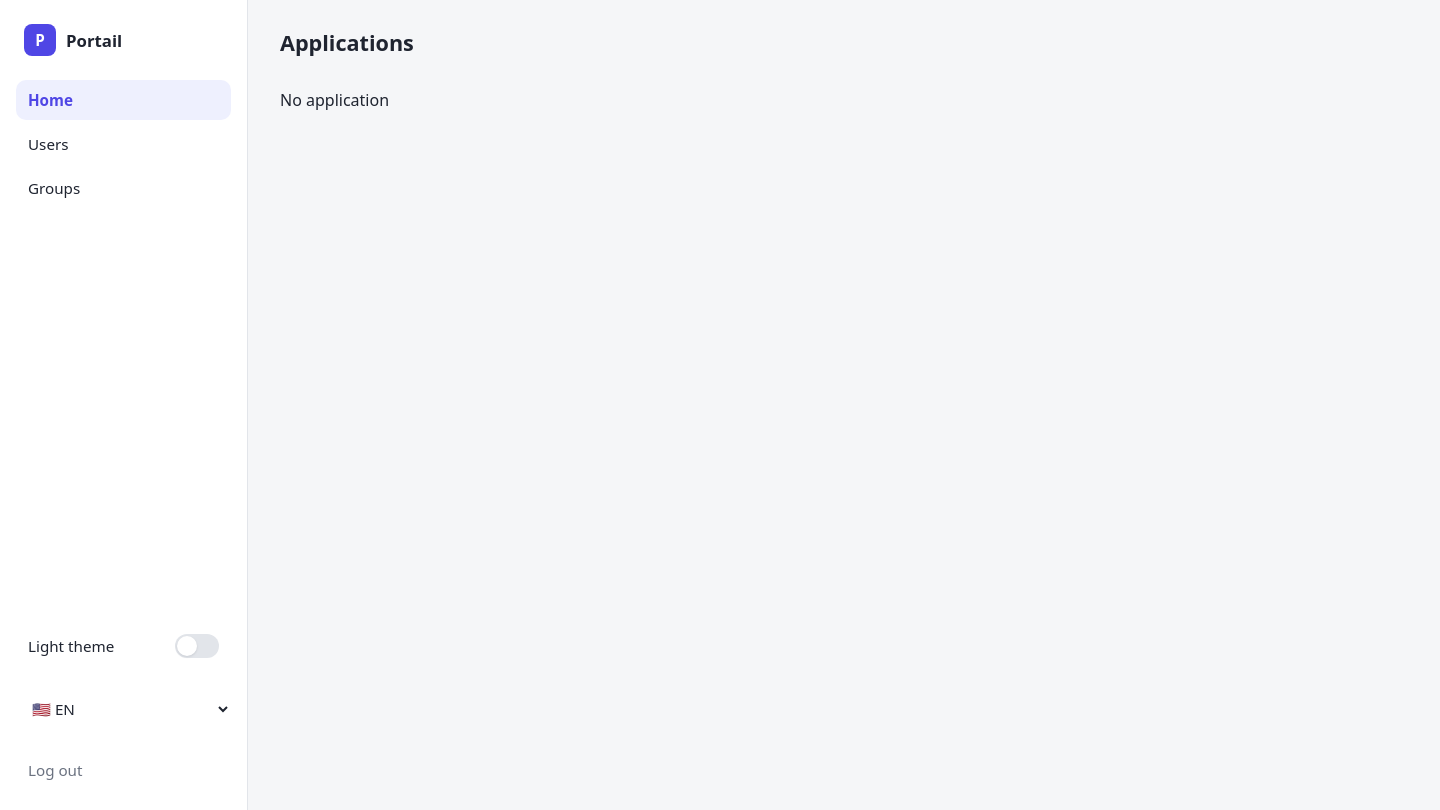
Test case: switches to users tab
The image size is (1440, 810).
Expected: the text "No application" is shown, [280,89,389,111]
Click the button with test id "tab-users" at coordinates (124, 144), box [16,124,231,164]
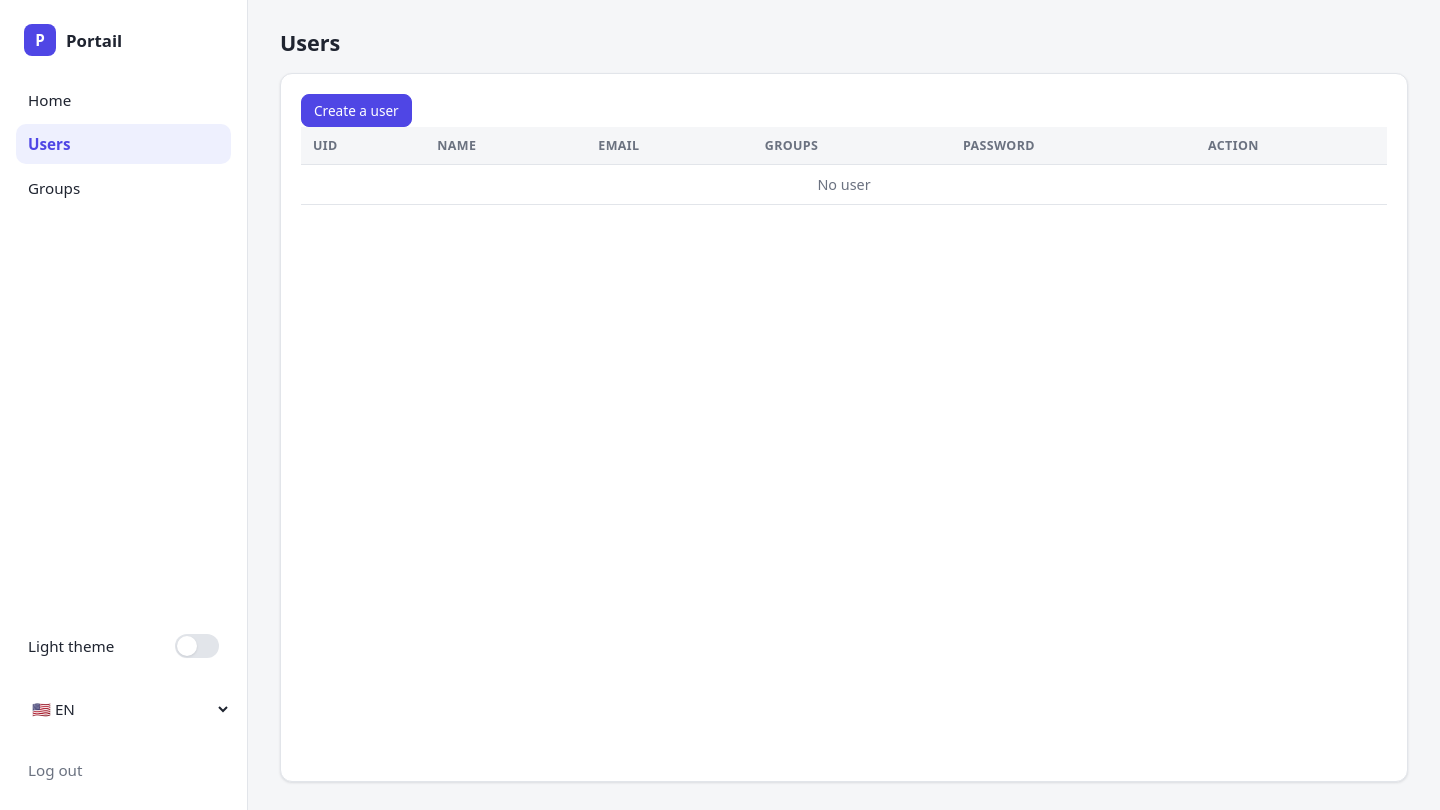
Expected: the table with test id "users-table" is shown, [301,127,1387,205]
